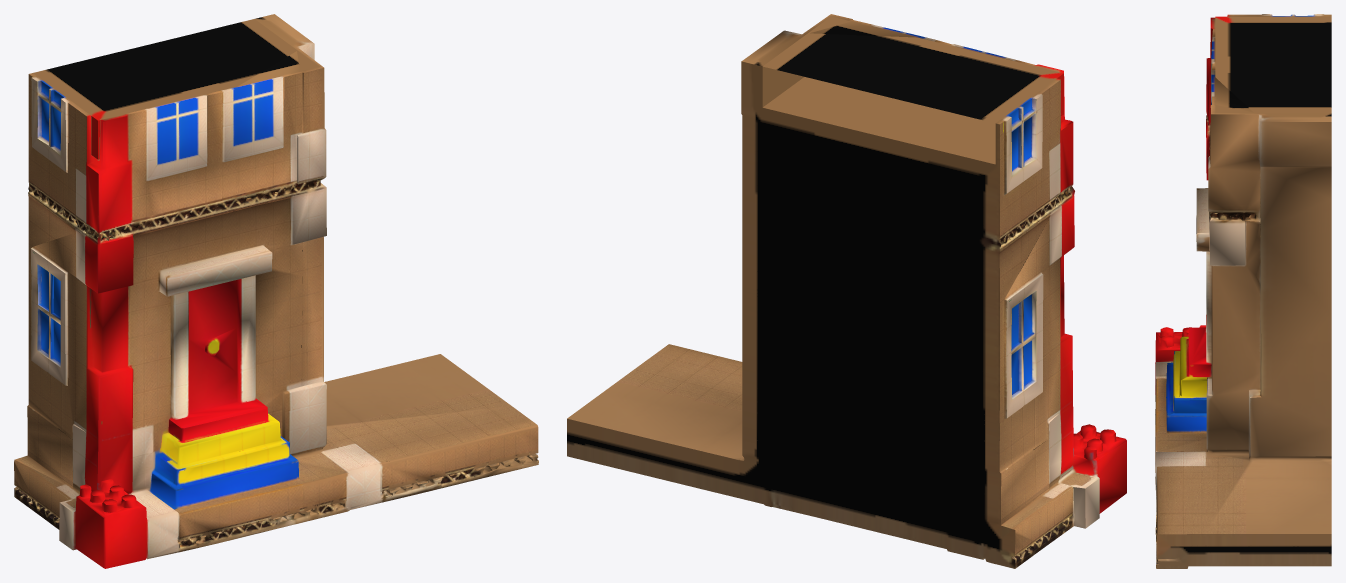
The model's file is 1-ground-floor-front-left.fbx.
3 renders of one model, left to right at view 1: azimuth 30°, elevation 25°; view 2: azimuth 150°, elevation 25°; view 3: azimuth 270°, elevation 25°, orthographic. The views are drawn at different scales.
Visible parts, largest first — view 1: ground-floor-front-left; view 2: ground-floor-front-left; view 3: ground-floor-front-left.
Part boxes in pixels (left/top/right/bottom): ground-floor-front-left: left=14, top=14, right=538, bottom=568; ground-floor-front-left: left=567, top=14, right=1126, bottom=568; ground-floor-front-left: left=1155, top=14, right=1331, bottom=568.
Bounding box in the file's own units: 11056 × 10137 × 4326.
Materials: 1 (1 with a texture image).
